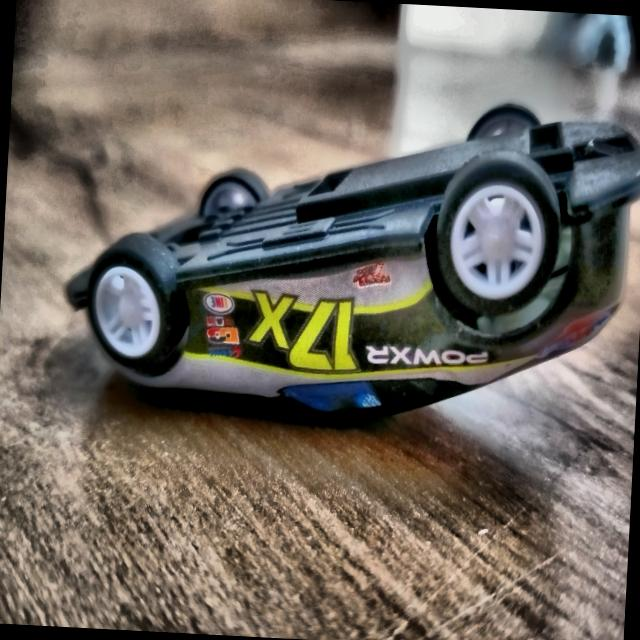Car: (54, 74, 640, 439)
